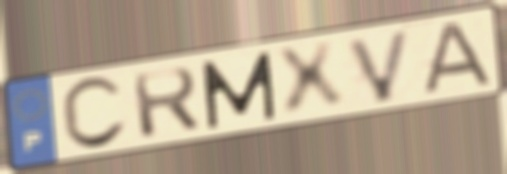A: (416, 18, 498, 98)
C: (57, 74, 131, 154)
M: (198, 48, 280, 132)
R: (128, 65, 204, 142)
V: (343, 25, 416, 106)
X: (270, 37, 351, 121)
